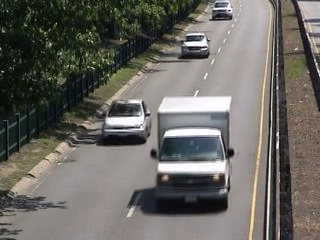car: (101, 98, 151, 144), (179, 31, 214, 62), (209, 1, 236, 23)
truck: (153, 94, 236, 215)
